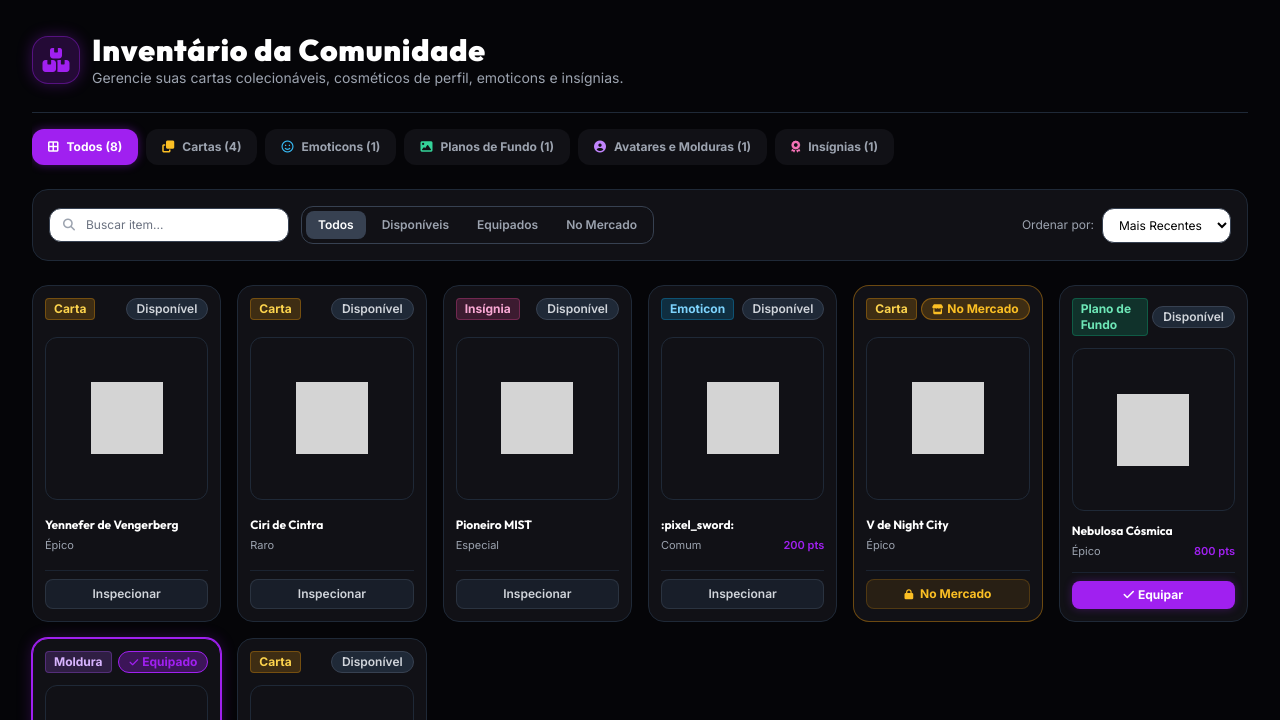
it: Inventory Component › filtra itens ao selecionar uma aba de categoria
The image size is (1280, 720).
// Clica na aba de Cartas
Click the button with test id "tab-cards" at coordinates (202, 147), box left=146, top=129, right=257, bottom=165
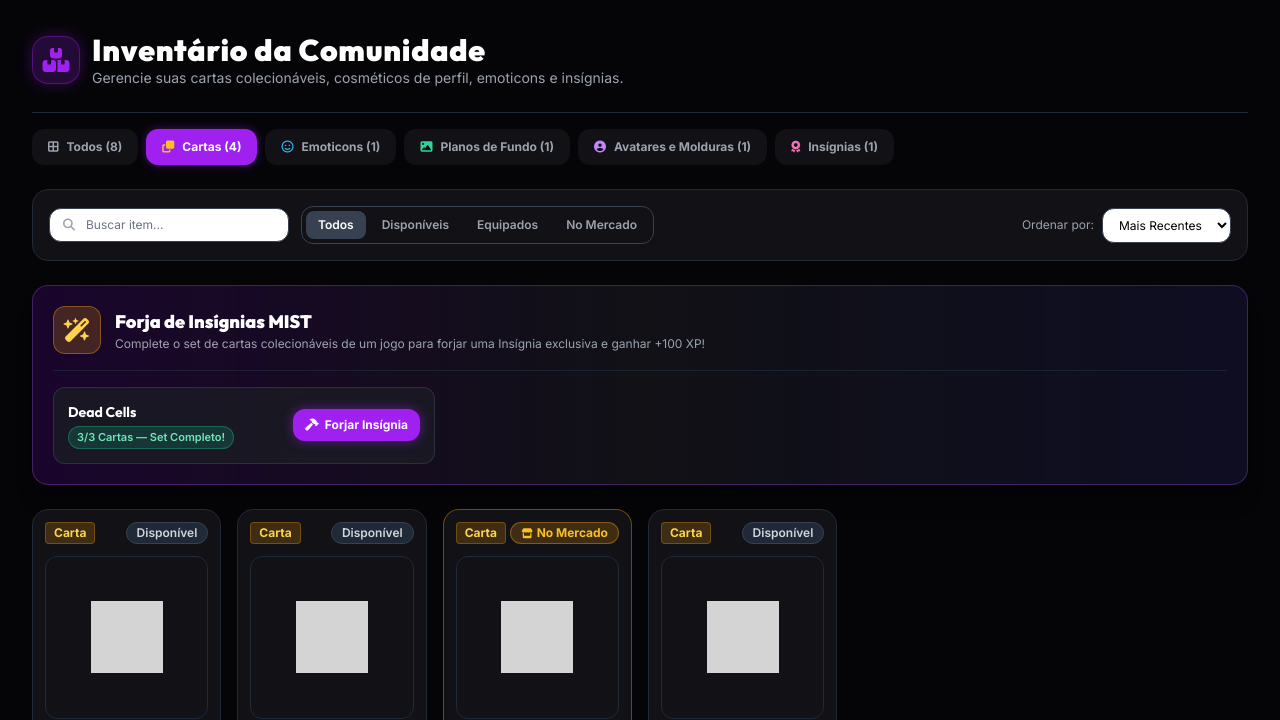
expect the heading "Nebulosa Cósmica" is gone: met
// Clica na aba de Planos de Fundo
Click the button with test id "tab-backgrounds" at coordinates (487, 147), box left=404, top=129, right=570, bottom=165
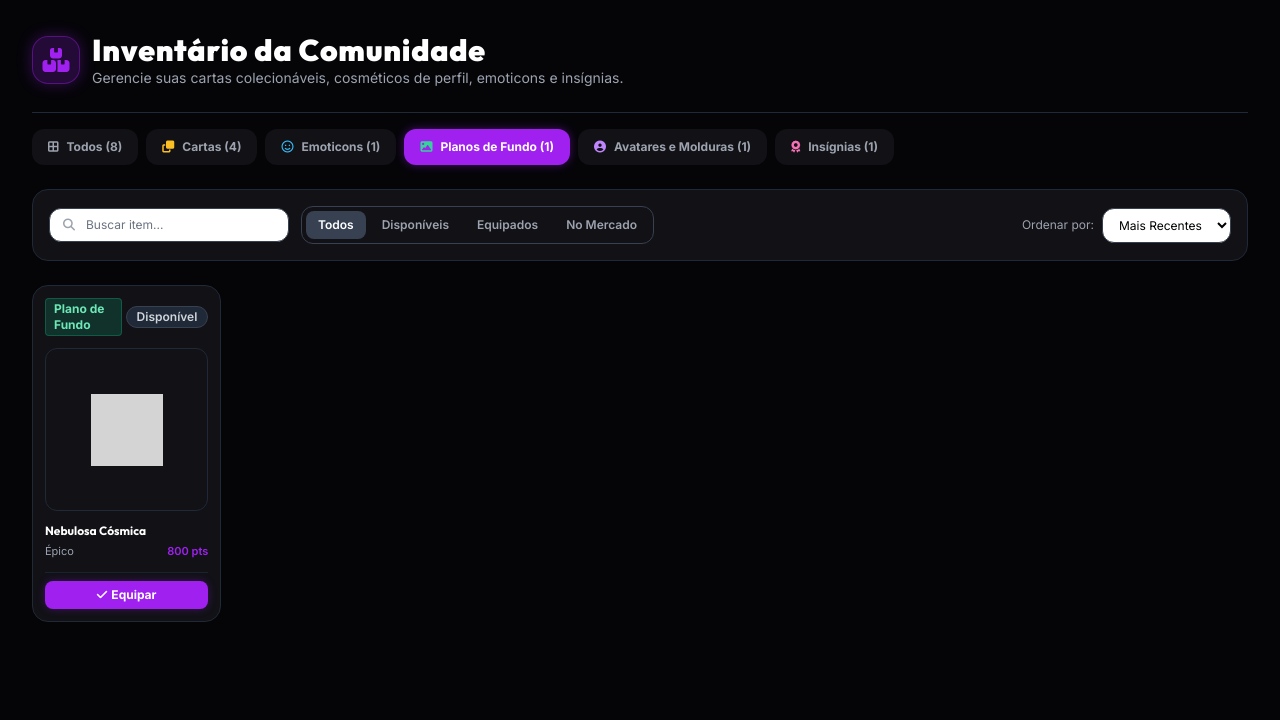
expect the heading "Nebulosa Cósmica" is shown: met, box left=45, top=523, right=146, bottom=538
